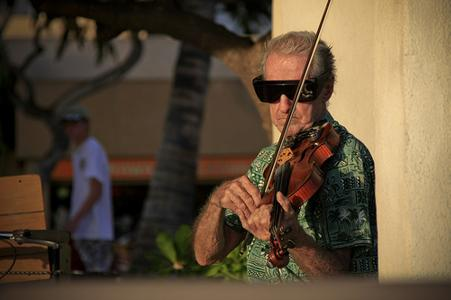person: (194, 32, 378, 277)
